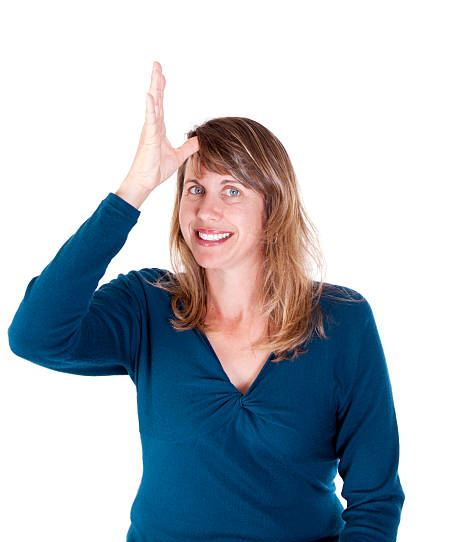dad: (123, 60, 270, 205)
